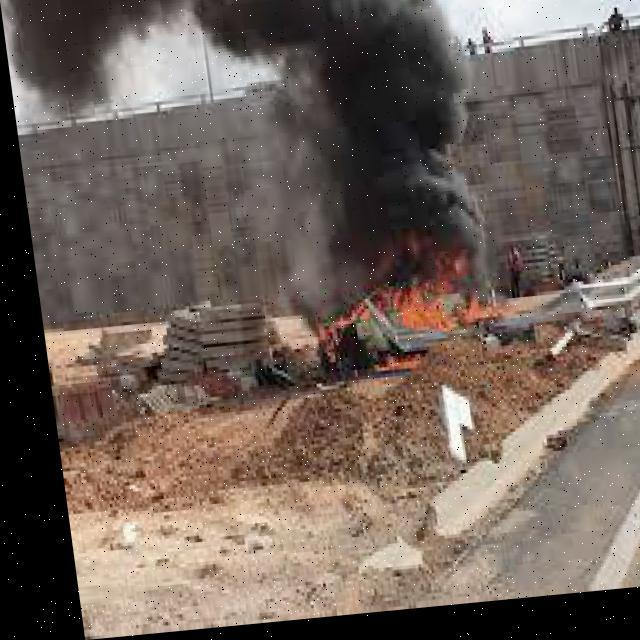Fire: (303, 235, 502, 375)
